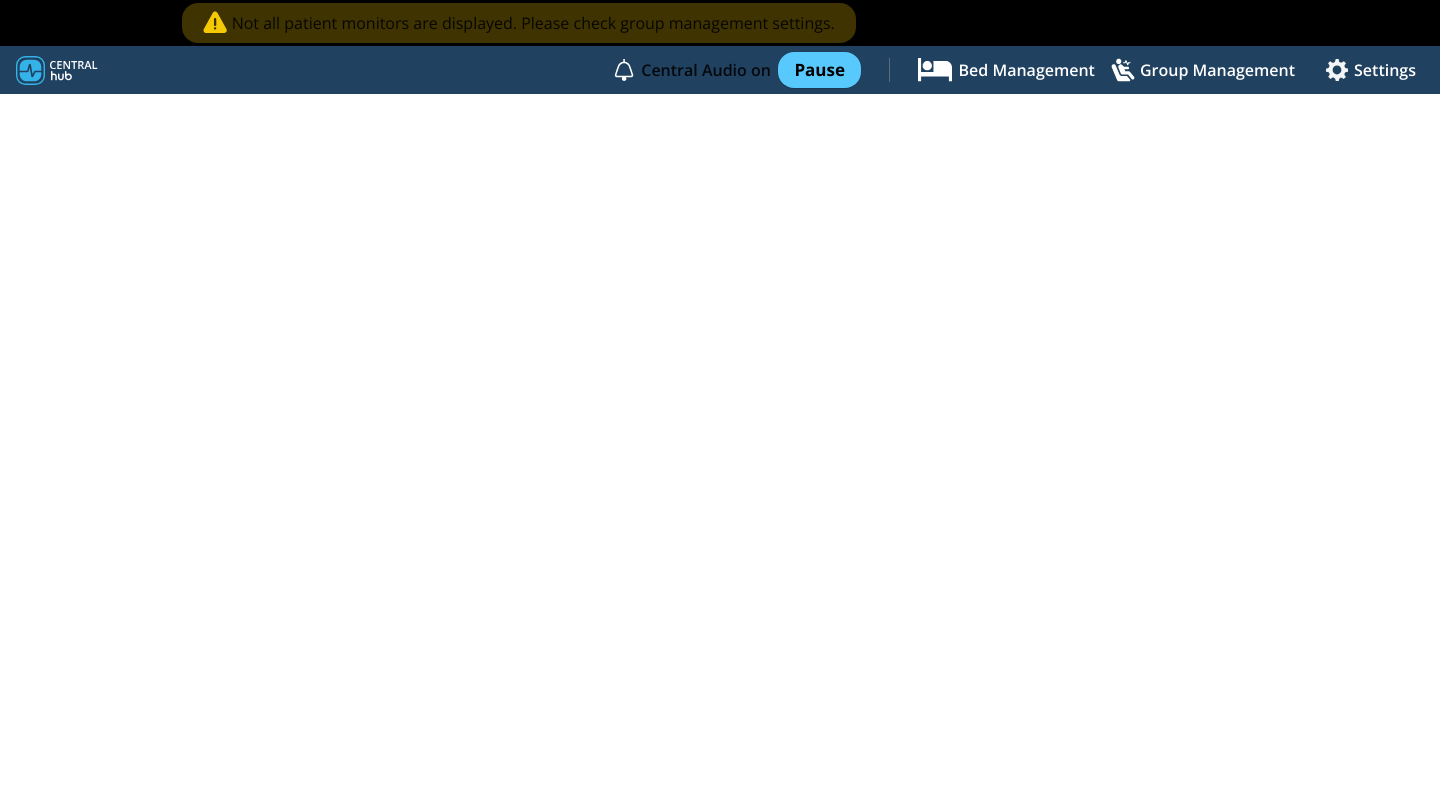
Test: Authenticated pages -> RootLayout › shows setting side bar on user action
What coordinates should you click on to do the following:
click the button "Settings"
I would click on:
 (1371, 70)
Its box is [1318,46,1424,94].
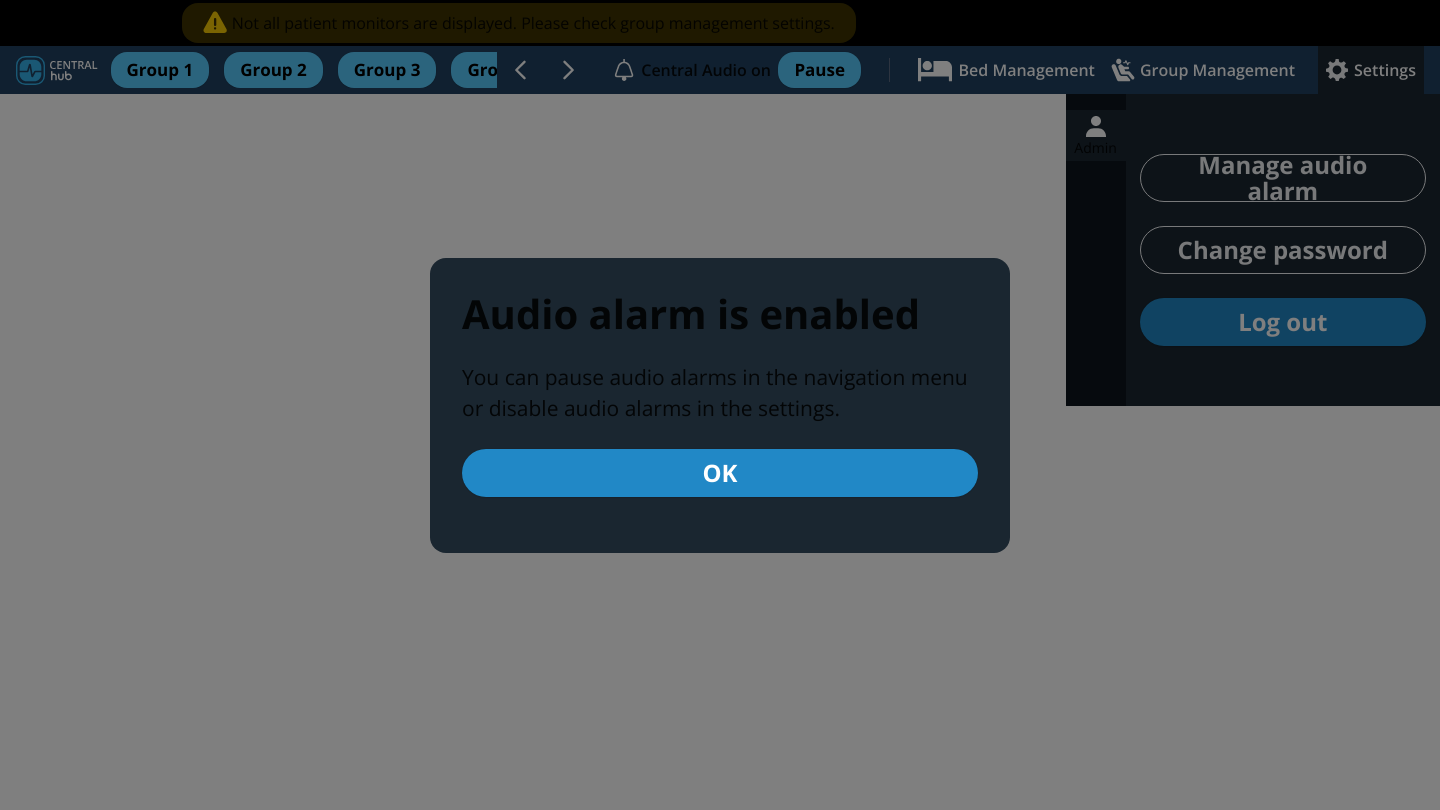
Check: the element with test id "settings-component" is shown, box [1066,94,1439,406]
